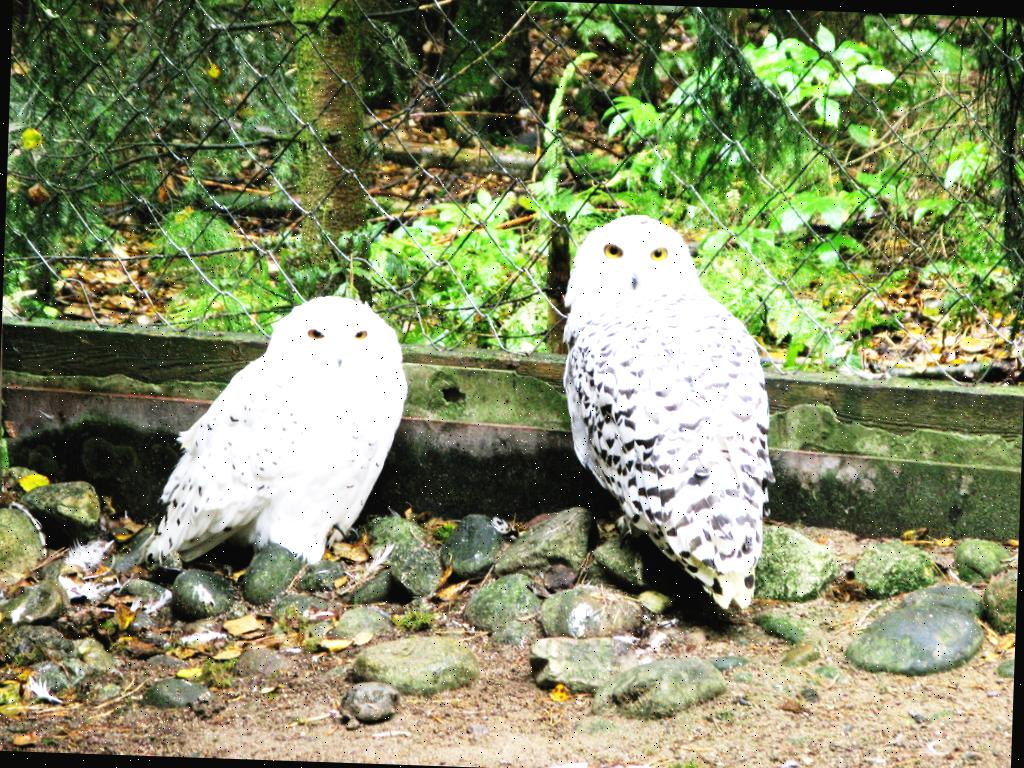Owl: (550, 213, 788, 606), (142, 290, 414, 586)
